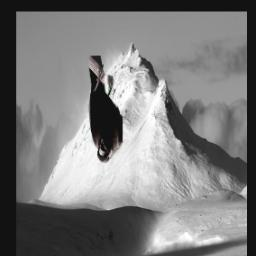Crow: (88, 56, 123, 163)
